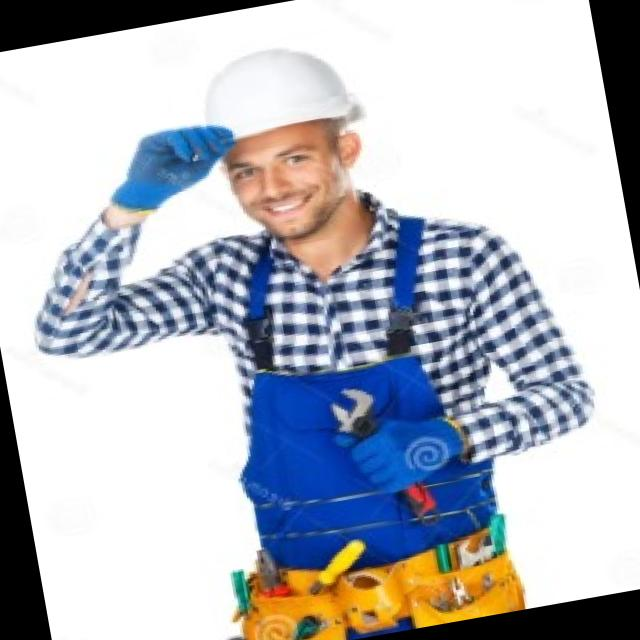gloved: (101, 116, 248, 216), (344, 404, 471, 499)
